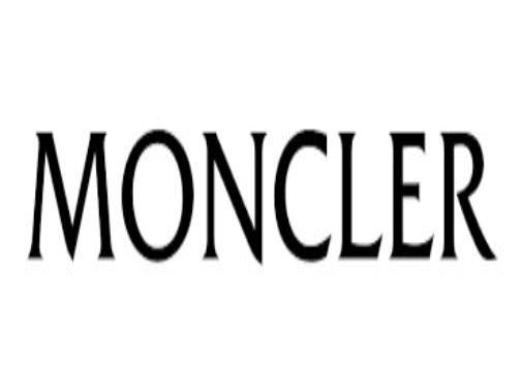MONCLER: (28, 129, 501, 266)
